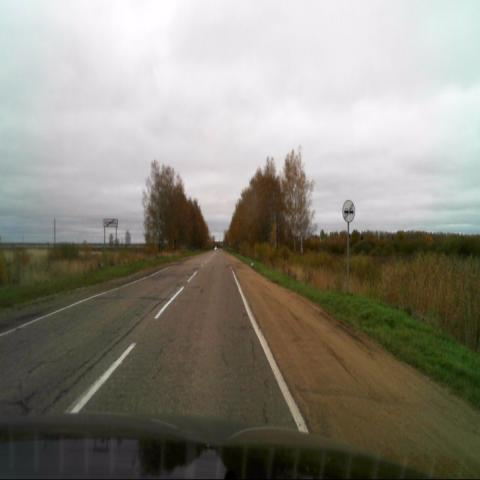3_21: (342, 199, 356, 223)
